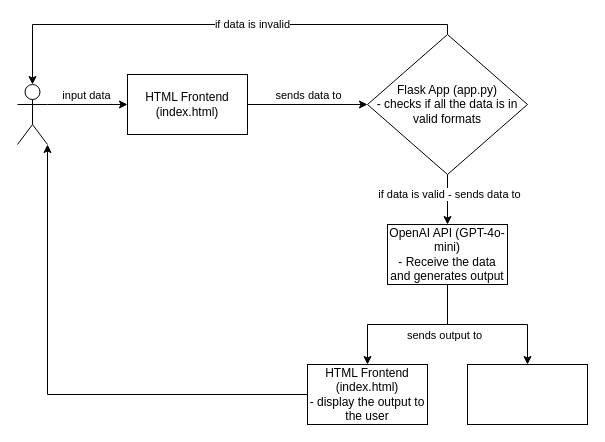
Some shapes in this 605 by 442 pixel diagram are drawn without their labels. Here are the shapes that lost their labels. From the top down, the centre of each, then its label:
At point 32,114: "User".
At point 527,394: "SQLite DB (history.db) - saves the output in the database".
